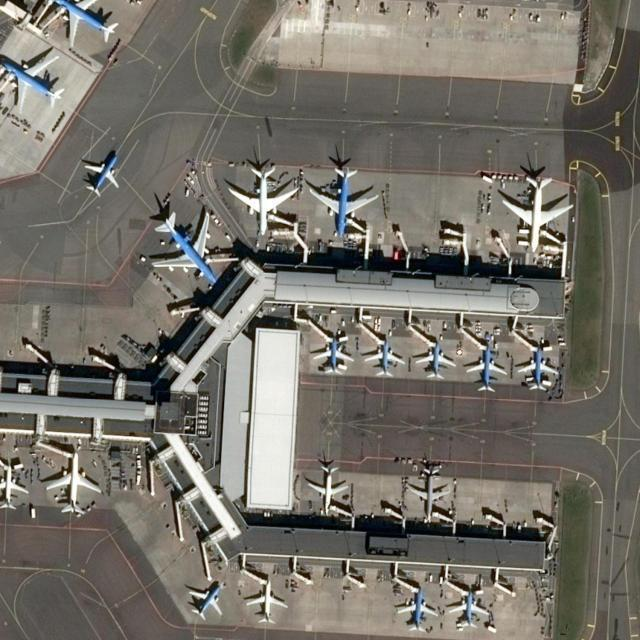Aircraft: (497, 172, 573, 252), (148, 203, 222, 285), (225, 160, 301, 236), (307, 162, 380, 239), (0, 52, 66, 110), (45, 0, 121, 48), (45, 451, 101, 516), (406, 461, 452, 519), (304, 461, 351, 515), (466, 344, 506, 394), (515, 347, 559, 392), (246, 579, 290, 624), (79, 150, 121, 197), (395, 585, 437, 632), (313, 332, 355, 376), (447, 584, 489, 628), (185, 579, 227, 621), (364, 339, 406, 378), (415, 340, 456, 379), (0, 461, 28, 511)
